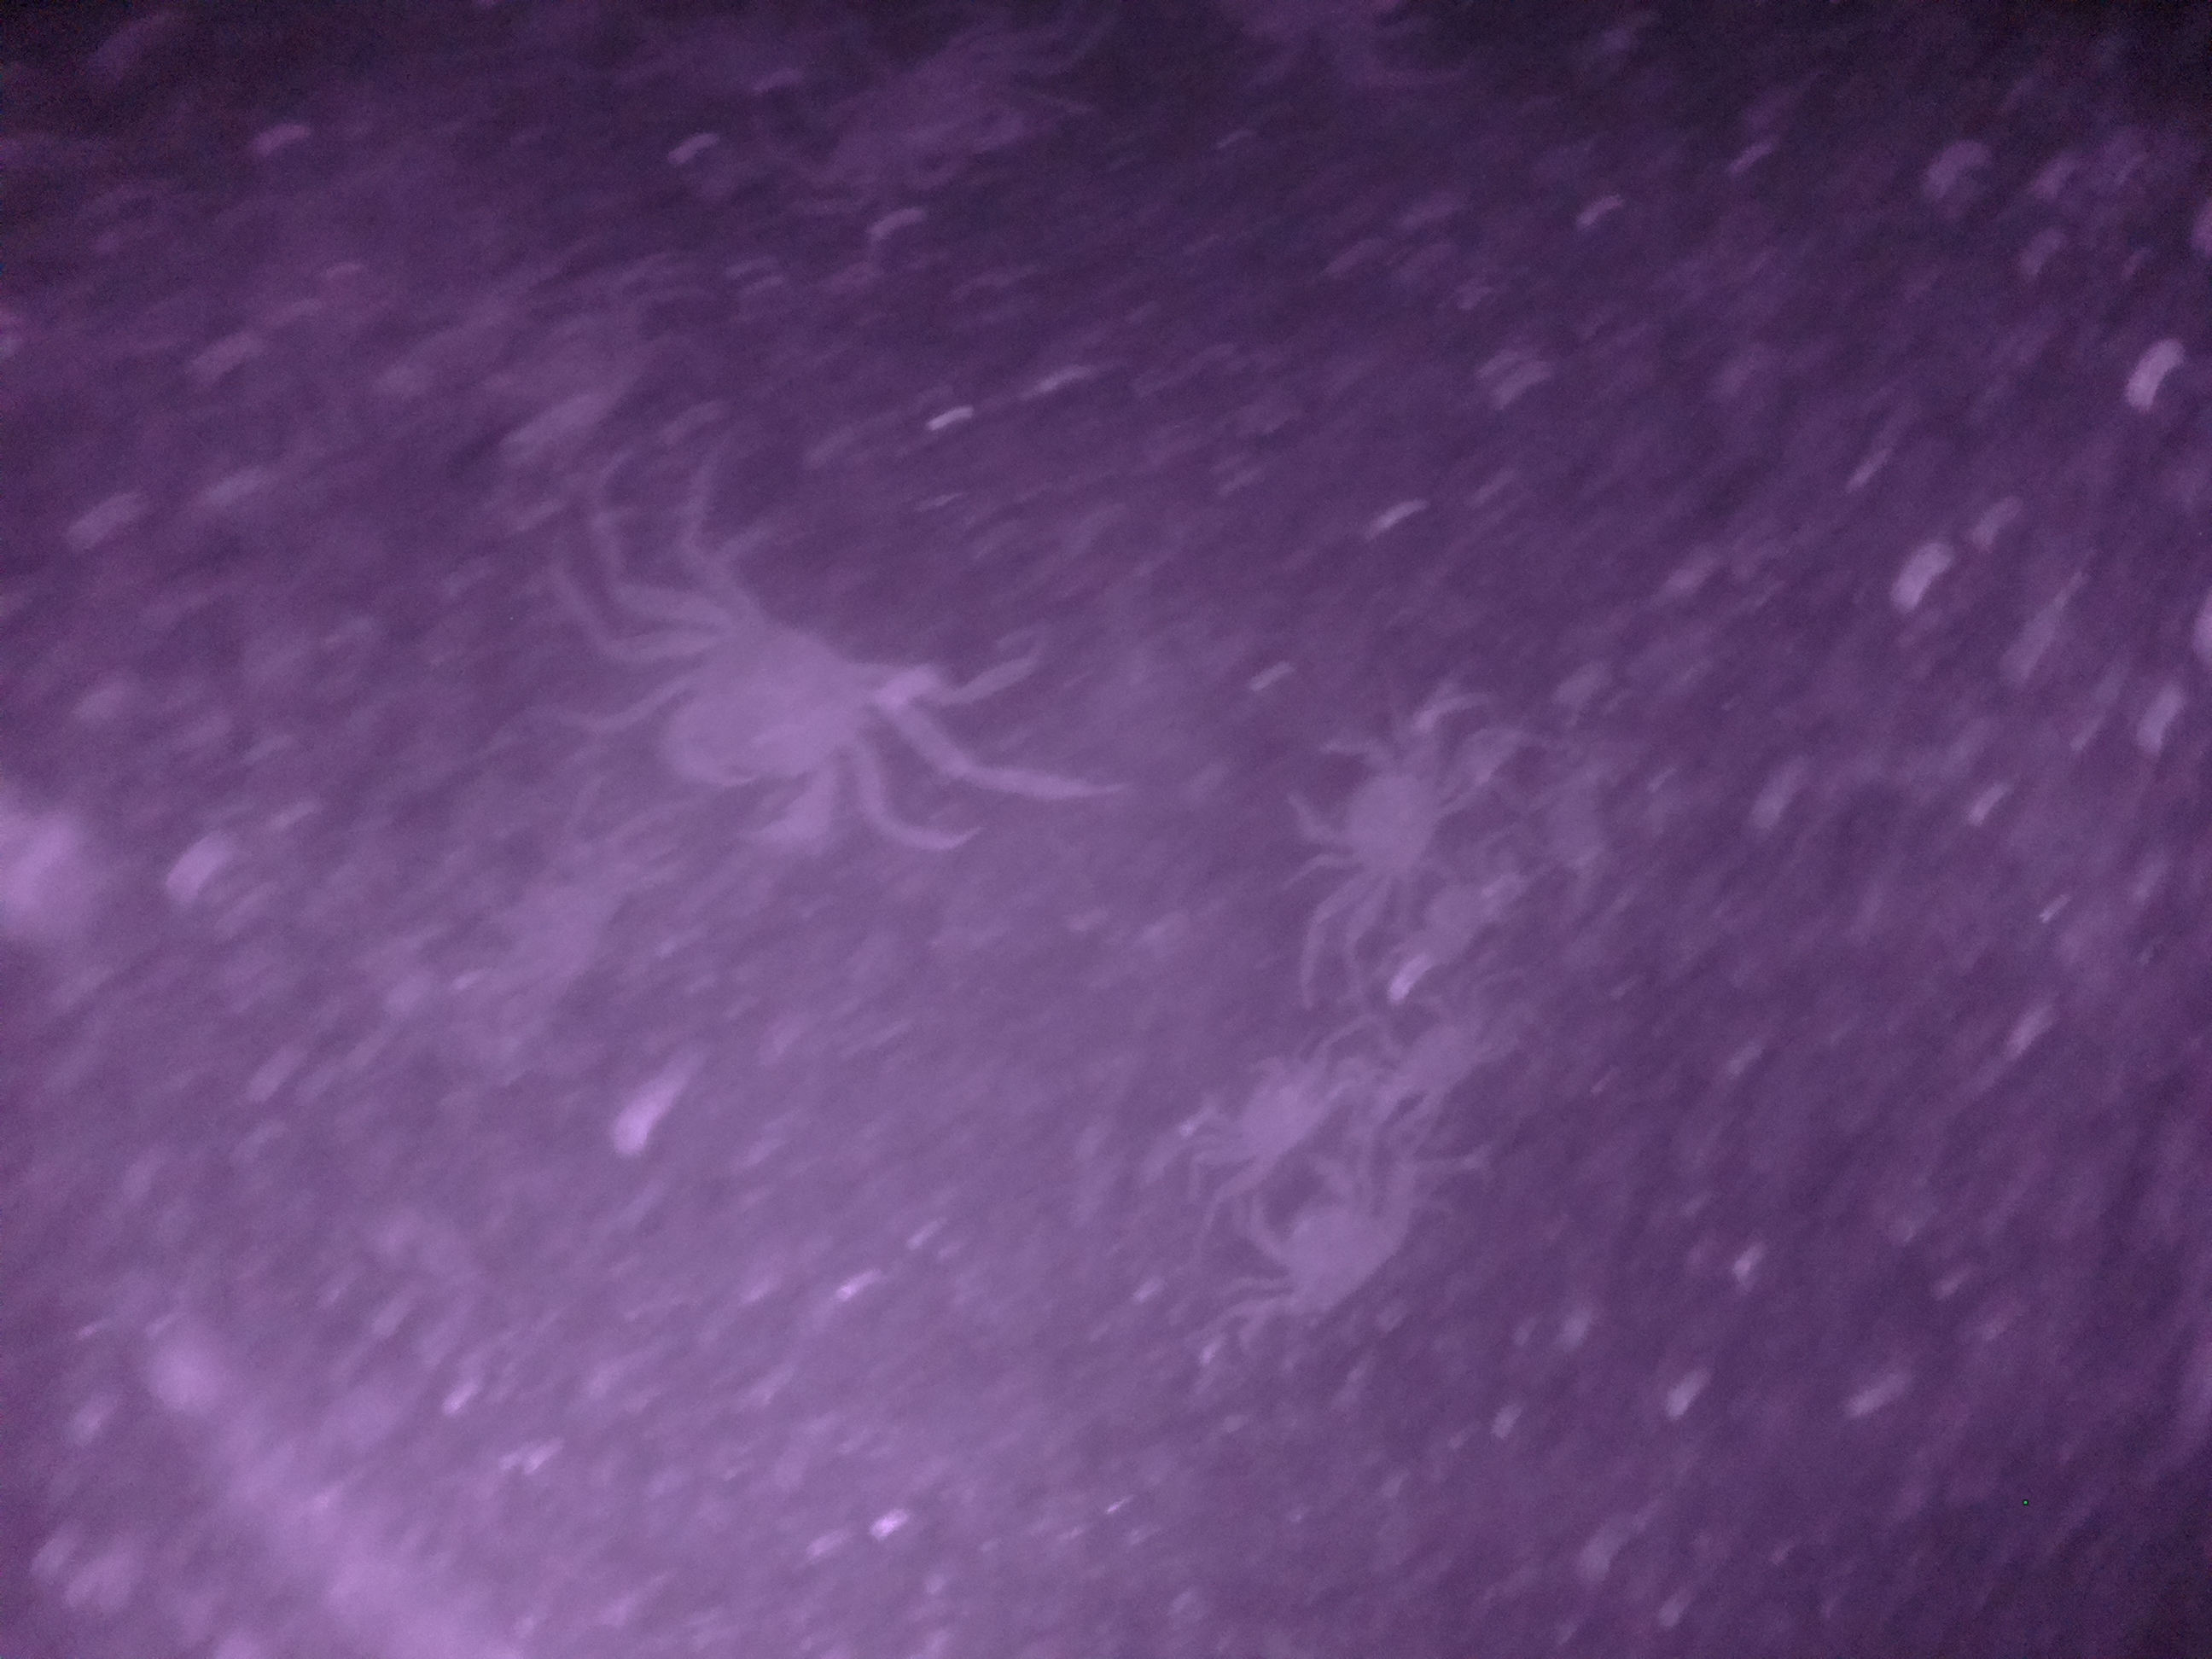Crab: (634, 572, 895, 863), (1226, 1136, 1465, 1364), (1134, 1019, 1372, 1216), (1275, 695, 1500, 889)
